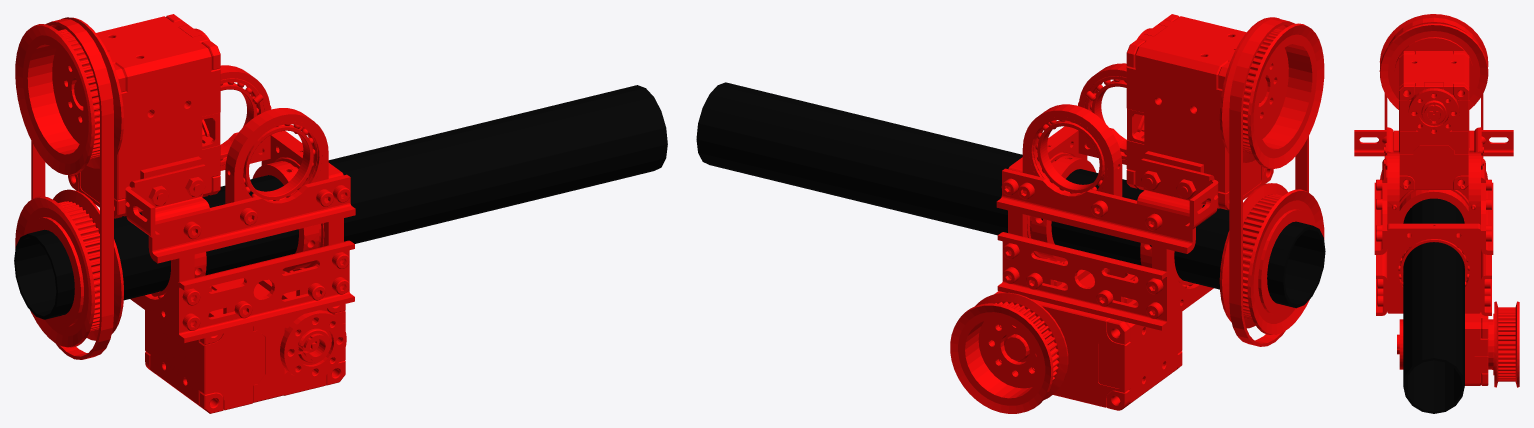
The model's file is ducted_fan_gimbal_roll_spine.dae.
The picture shows the model from 3 angles, left to right: view 1: azimuth 30°, elevation 25°; view 2: azimuth 150°, elevation 25°; view 3: azimuth 270°, elevation 25°; orthographic projection. The views are drawn at different scales.
Visible parts, largest first — view 1: rotor_gimbal_module_spine - rotor_link_rod-1, rotor_gimbal_module_spine - XL-430_new-1 XL-430_new.stp-1 D, rotor_gimbal_module_spine - gimbal_roll_servo_HTPB60S2M060_A, rotor_gimbal_module_spine - gimbal_roll_side_plate_down-1, rotor_gimbal_module_spine - gimbal_roll_side_plate_top-1, rotor_gimbal_module_spine - XL-430_new-2 XL-430_new.stp-1 D, rotor_gimbal_module_spine - gimbal_roll_shaft_HTPB60S2M060_A, rotor_gimbal_module_spine - gimbal_roll_246s2m-2, rotor_gimbal_module_spine - XL-430_new-2 XL-430_new.stp-1 D. (×2), rotor_gimbal_module_spine - gimbal_pitch_holder-1, rotor_gimbal_module_spine - gimbal_roll_pulley_tensioner_ho, rotor_gimbal_module_spine - 6704_2027-1 (+7 smaller); view 2: rotor_gimbal_module_spine - rotor_link_rod-1, rotor_gimbal_module_spine - XL-430_new-1 XL-430_new.stp-1 D, rotor_gimbal_module_spine - gimbal_pitch_servo_HTPB48S2M060_, rotor_gimbal_module_spine - gimbal_roll_servo_HTPB60S2M060_A, rotor_gimbal_module_spine - XL-430_new-2 XL-430_new.stp-1 D, rotor_gimbal_module_spine - gimbal_roll_side_plate_down-2, rotor_gimbal_module_spine - gimbal_roll_side_plate_mirror-1, rotor_gimbal_module_spine - gimbal_roll_shaft_HTPB60S2M060_A, rotor_gimbal_module_spine - gimbal_roll_246s2m-2, rotor_gimbal_module_spine - gimbal_pitch_holder-3, rotor_gimbal_module_spine - gimbal_roll_pulley_tensioner_hol, rotor_gimbal_module_spine - 6704_2027-3 (+5 smaller); view 3: rotor_gimbal_module_spine - rotor_link_rod-1, rotor_gimbal_module_spine - XL-430_new-1 XL-430_new.stp-1 D, rotor_gimbal_module_spine - gimbal_roll_servo_HTPB60S2M060_A, rotor_gimbal_module_spine - gimbal_roll_holder-1, rotor_gimbal_module_spine - XL-430_new-1 XL-430_new.stp-1 D. (×6), rotor_gimbal_module_spine - gimbal_pitch_servo_HTPB48S2M060_, rotor_gimbal_module_spine - XL-430_new-2 XL-430_new.stp-1 D, rotor_gimbal_module_spine - XL-430_new-1 XL-430_new.stp-1 DC, rotor_gimbal_module_spine - gimbal_roll_side_plate_top-1, rotor_gimbal_module_spine - gimbal_roll_pulley_tensioner_ho, rotor_gimbal_module_spine - gimbal_roll_pulley_tensioner_hol, rotor_gimbal_module_spine - 25mm_stopper-2 (+8 smaller).
Part boxes in pixels (x1,y1,x2,y2): rotor_gimbal_module_spine - rotor_link_rod-1: [14, 85, 667, 319]; rotor_gimbal_module_spine - XL-430_new-1 XL-430_new.stp-1 D: [74, 16, 220, 216]; rotor_gimbal_module_spine - gimbal_roll_servo_HTPB60S2M060_A: [15, 17, 123, 175]; rotor_gimbal_module_spine - gimbal_roll_side_plate_down-1: [176, 240, 354, 343]; rotor_gimbal_module_spine - gimbal_roll_side_plate_top-1: [140, 156, 355, 263]; rotor_gimbal_module_spine - XL-430_new-2 XL-430_new.stp-1 D: [145, 278, 345, 410]; rotor_gimbal_module_spine - gimbal_roll_shaft_HTPB60S2M060_A: [15, 189, 123, 347]; rotor_gimbal_module_spine - gimbal_roll_246s2m-2: [31, 18, 113, 359]; rotor_gimbal_module_spine - XL-430_new-2 XL-430_new.stp-1 D. (×2): [280, 310, 346, 380]; rotor_gimbal_module_spine - gimbal_pitch_holder-1: [225, 108, 328, 203]; rotor_gimbal_module_spine - gimbal_roll_pulley_tensioner_ho: [125, 164, 205, 239]; rotor_gimbal_module_spine - 6704_2027-1: [243, 124, 317, 200]; rotor_gimbal_module_spine - rotor_link_rod-1: [696, 82, 1325, 308]; rotor_gimbal_module_spine - XL-430_new-1 XL-430_new.stp-1 D: [1126, 16, 1267, 208]; rotor_gimbal_module_spine - gimbal_pitch_servo_HTPB48S2M060_: [950, 292, 1068, 413]; rotor_gimbal_module_spine - gimbal_roll_servo_HTPB60S2M060_A: [1219, 17, 1324, 168]; rotor_gimbal_module_spine - XL-430_new-2 XL-430_new.stp-1 D: [992, 273, 1182, 407]; rotor_gimbal_module_spine - gimbal_roll_side_plate_down-2: [997, 232, 1169, 330]; rotor_gimbal_module_spine - gimbal_roll_side_plate_mirror-1: [996, 151, 1203, 253]; rotor_gimbal_module_spine - gimbal_roll_shaft_HTPB60S2M060_A: [1219, 183, 1324, 334]; rotor_gimbal_module_spine - gimbal_roll_246s2m-2: [1229, 18, 1308, 346]; rotor_gimbal_module_spine - gimbal_pitch_holder-3: [1022, 104, 1122, 196]; rotor_gimbal_module_spine - gimbal_roll_pulley_tensioner_hol: [1141, 158, 1218, 230]; rotor_gimbal_module_spine - 6704_2027-3: [1033, 120, 1104, 193]; rotor_gimbal_module_spine - rotor_link_rod-1: [1403, 198, 1464, 413]; rotor_gimbal_module_spine - XL-430_new-1 XL-430_new.stp-1 D: [1399, 51, 1469, 189]; rotor_gimbal_module_spine - gimbal_roll_servo_HTPB60S2M060_A: [1379, 14, 1488, 109]; rotor_gimbal_module_spine - gimbal_roll_holder-1: [1387, 223, 1480, 313]; rotor_gimbal_module_spine - XL-430_new-1 XL-430_new.stp-1 D. (×6): [1399, 83, 1469, 189]; rotor_gimbal_module_spine - gimbal_pitch_servo_HTPB48S2M060_: [1493, 301, 1519, 387]; rotor_gimbal_module_spine - XL-430_new-2 XL-430_new.stp-1 D: [1465, 312, 1493, 385]; rotor_gimbal_module_spine - XL-430_new-1 XL-430_new.stp-1 DC: [1399, 130, 1468, 154]; rotor_gimbal_module_spine - gimbal_roll_side_plate_top-1: [1374, 130, 1398, 254]; rotor_gimbal_module_spine - gimbal_roll_pulley_tensioner_ho: [1354, 127, 1393, 156]; rotor_gimbal_module_spine - gimbal_roll_pulley_tensioner_hol: [1474, 127, 1513, 156]; rotor_gimbal_module_spine - 25mm_stopper-2: [1399, 190, 1468, 223].
Bounding box in the file's own units: 0.2 × 0.0669 × 0.1293.
